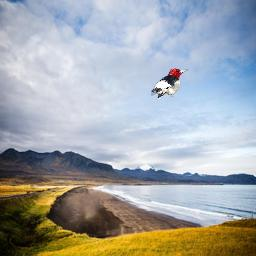Woodpecker: (151, 68, 189, 99)
